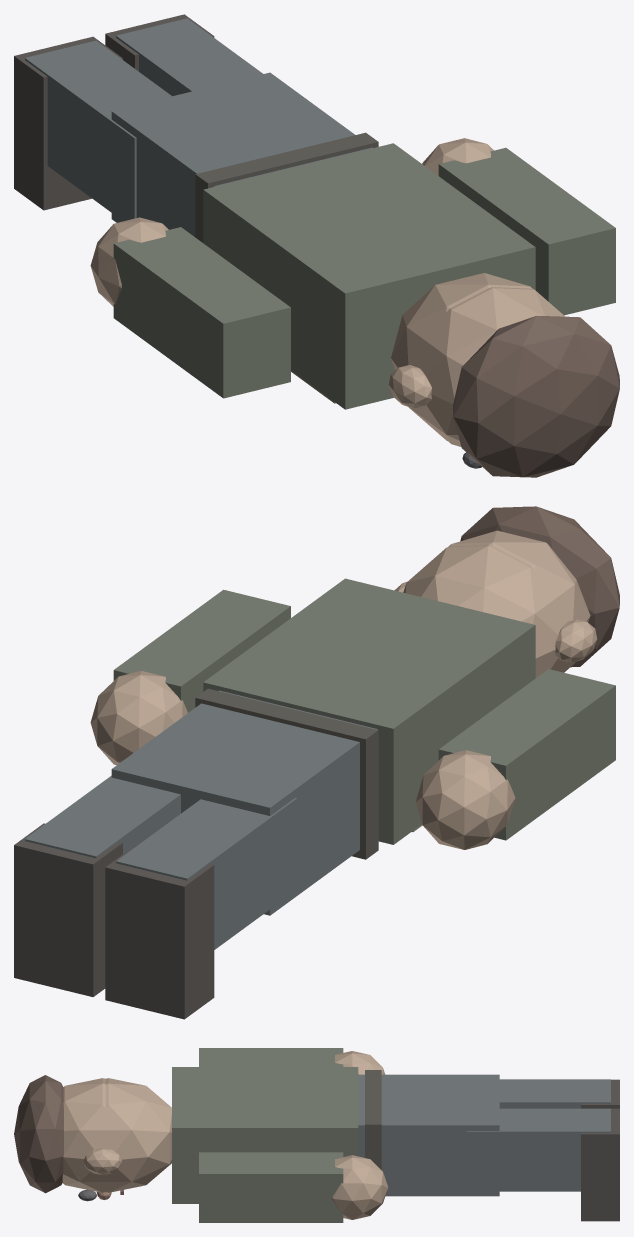
File: outfit_male_tactical_vest.glb
3 views of the same model, one above another, from view 1: azimuth 30°, elevation 25°; view 2: azimuth 150°, elevation 25°; view 3: azimuth 270°, elevation 25° (orthographic). The views are drawn at different scales.
Parts seen in each view (by area): view 1: part_00, part_19, part_06, part_01, part_12, part_04, part_02, part_10, part_05, part_03, part_18, part_07 (+3 smaller); view 2: part_00, part_01, part_06, part_05, part_04, part_11, part_12, part_03, part_07, part_10, part_19, part_13 (+3 smaller); view 3: part_00, part_01, part_12, part_10, part_03, part_02, part_19, part_11, part_04, part_06, part_13, part_18 (+3 smaller).
Part boxes in pixels (<box>): part_00: <box>203,143,535,409</box>; part_19: <box>453,315,619,477</box>; part_06: <box>113,227,290,398</box>; part_01: <box>111,72,372,236</box>; part_12: <box>438,147,615,315</box>; part_04: <box>25,40,171,221</box>; part_02: <box>411,287,564,446</box>; part_10: <box>116,18,262,96</box>; part_05: <box>14,36,122,210</box>; part_03: <box>391,273,532,440</box>; part_18: <box>195,132,378,242</box>; part_07: <box>90,217,168,306</box>; part_00: <box>203,578,535,844</box>; part_01: <box>111,690,377,915</box>; part_06: <box>438,669,615,840</box>; part_05: <box>105,845,214,1019</box>; part_04: <box>116,798,297,949</box>; part_11: <box>14,823,122,996</box>; part_12: <box>113,589,290,712</box>; part_03: <box>403,545,560,677</box>; part_07: <box>416,750,515,849</box>; part_10: <box>25,775,180,858</box>; part_19: <box>460,506,619,667</box>; part_13: <box>90,671,187,765</box>; part_00: <box>172,1067,358,1203</box>; part_01: <box>358,1074,499,1196</box>; part_12: <box>199,1152,343,1222</box>; part_10: <box>466,1108,610,1191</box>; part_03: <box>86,1078,171,1192</box>; part_02: <box>62,1078,125,1192</box>; part_19: <box>14,1075,63,1193</box>; part_11: <box>581,1108,619,1221</box>; part_04: <box>499,1079,610,1108</box>; part_06: <box>199,1048,343,1066</box>; part_13: <box>332,1155,388,1219</box>; part_18: <box>365,1070,381,1169</box>.
Bounding box in the file's own units: 1.03 × 0.435 × 2.02.
